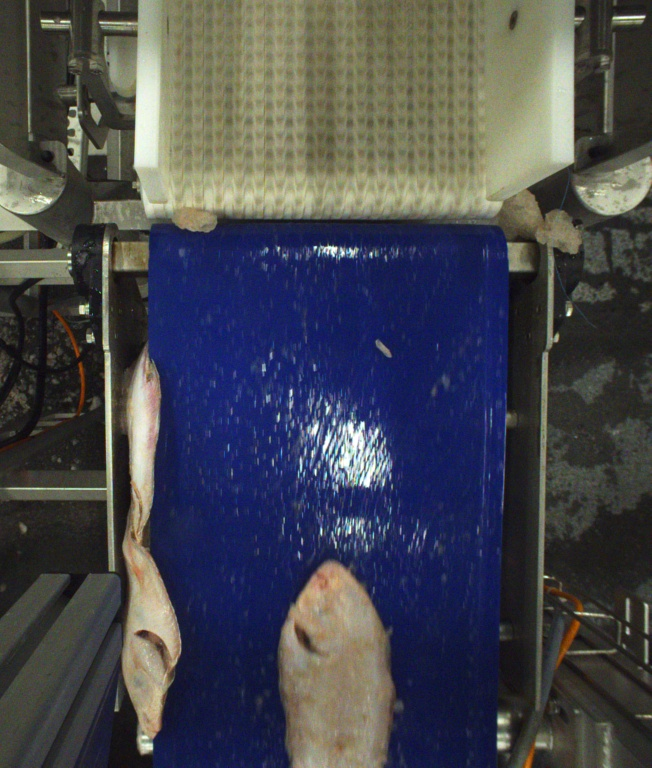SOL: (276, 556, 394, 768)
